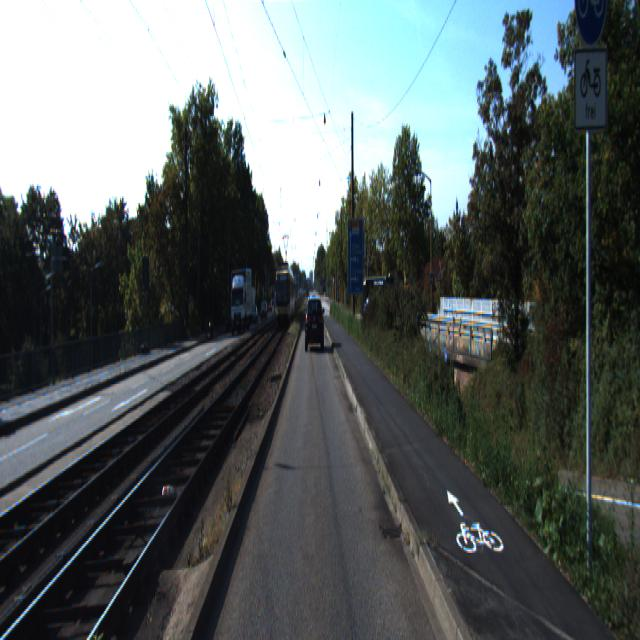Car: (362, 274, 400, 328), (229, 266, 252, 336), (306, 295, 323, 352)
